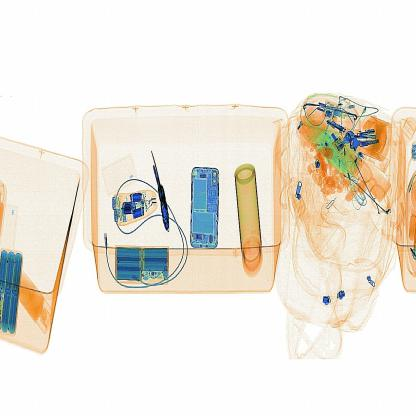wrench: (143, 140, 178, 235)
